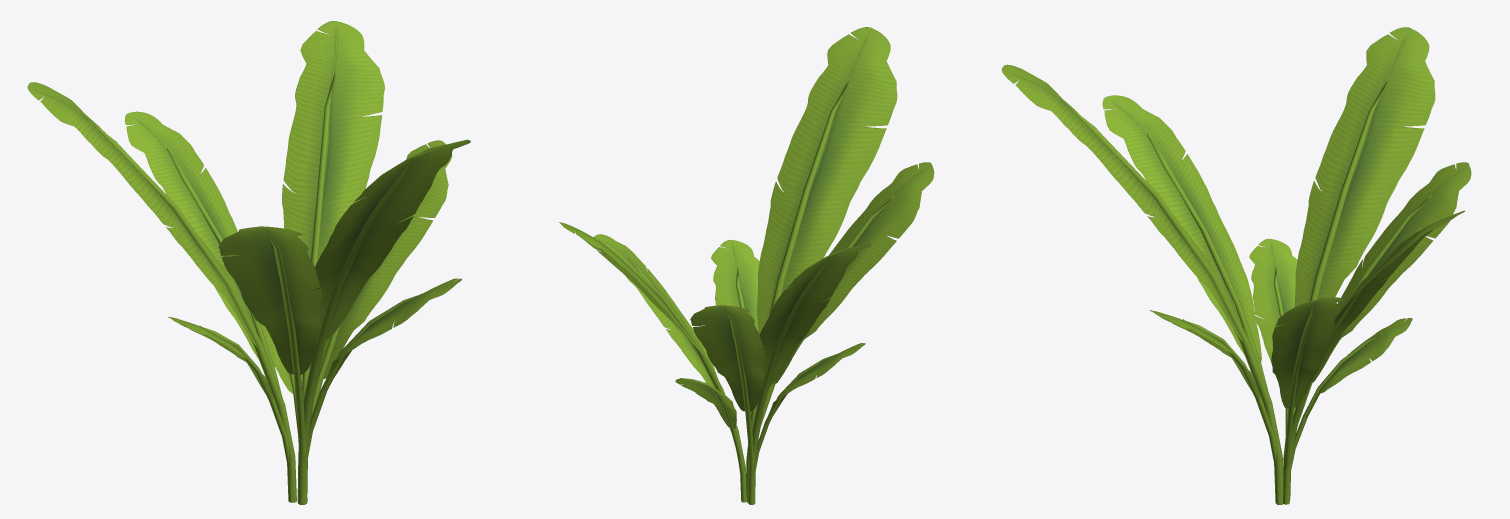
The model's file is banana.fbx.
3 renders of one model, left to right at view 1: azimuth 30°, elevation 25°; view 2: azimuth 150°, elevation 25°; view 3: azimuth 270°, elevation 25°, orthographic. The views are drawn at different scales.
Visible parts, largest first — view 1: BezierCurve.005; view 2: BezierCurve.005; view 3: BezierCurve.005.
Boxes of the visible parts, box(x1,y1,x2,y2) form: BezierCurve.005: box(27, 21, 470, 504); BezierCurve.005: box(559, 27, 934, 504); BezierCurve.005: box(1001, 27, 1471, 504).
Bounding box in the file's own units: 181 × 199 × 210.
